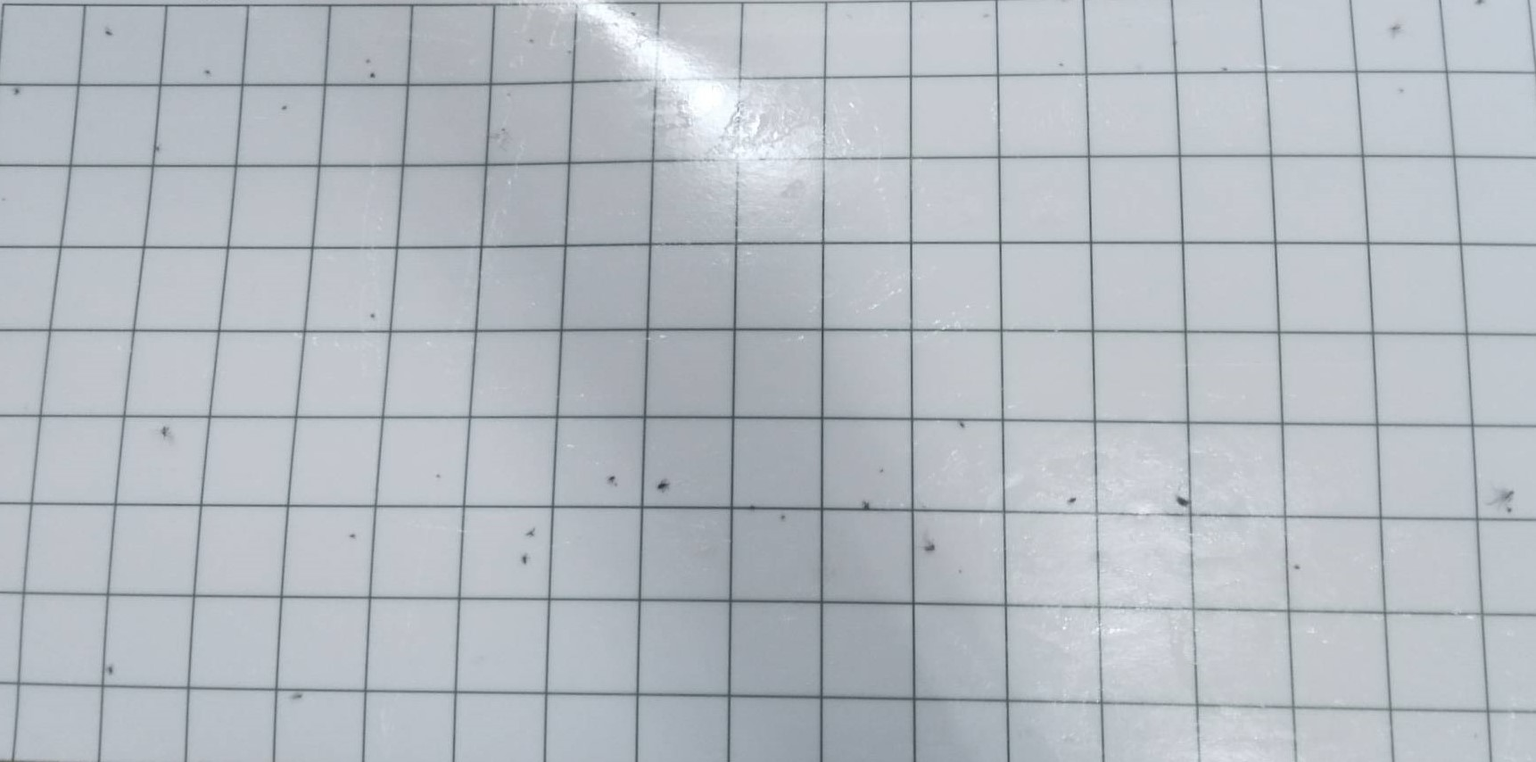test: (1489, 479, 1520, 516), (1172, 490, 1192, 511), (653, 477, 673, 496), (102, 660, 120, 679), (516, 551, 535, 568), (286, 689, 305, 706), (920, 539, 938, 556), (155, 423, 173, 440), (859, 496, 875, 513), (603, 472, 621, 487), (10, 83, 26, 98), (523, 526, 540, 540), (365, 309, 381, 323), (746, 501, 760, 517), (102, 25, 116, 40), (279, 100, 293, 115), (1389, 23, 1403, 38), (1065, 492, 1080, 506), (345, 529, 359, 544), (775, 510, 792, 522), (522, 35, 538, 46), (1290, 560, 1303, 573), (366, 69, 380, 81), (626, 7, 638, 21), (1395, 83, 1407, 95), (979, 11, 992, 22), (202, 66, 213, 78), (956, 418, 968, 429), (876, 465, 887, 477), (431, 470, 444, 480), (498, 125, 509, 136), (364, 55, 376, 65), (1475, 0, 1488, 8), (152, 143, 163, 152), (1169, 37, 1180, 46), (1219, 64, 1230, 73), (566, 47, 573, 57), (1057, 59, 1064, 69)
